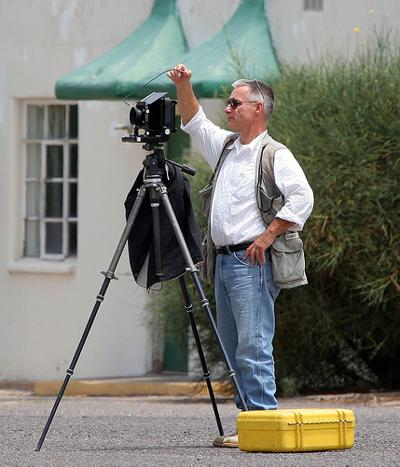person: (168, 63, 315, 449)
